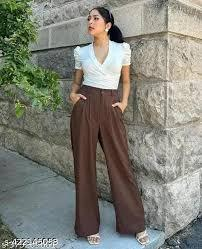trouser: (69, 83, 148, 235)
tshirt: (69, 46, 133, 91)
